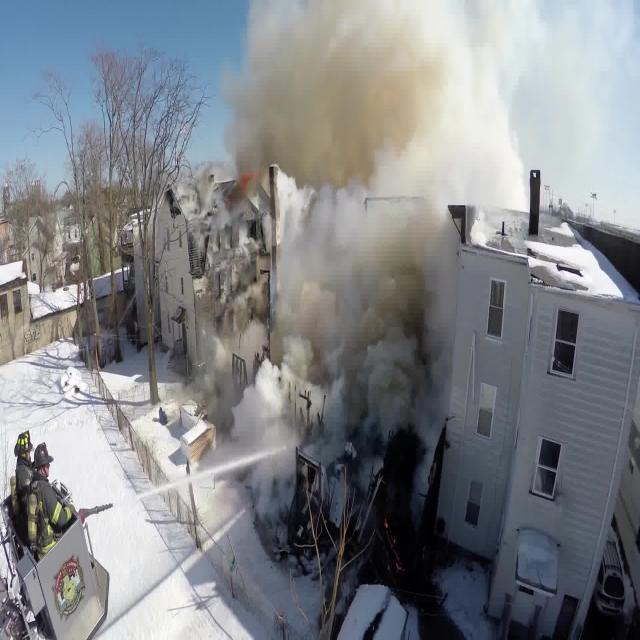Fire: (222, 163, 266, 202)
Smoke: (225, 0, 580, 501)
